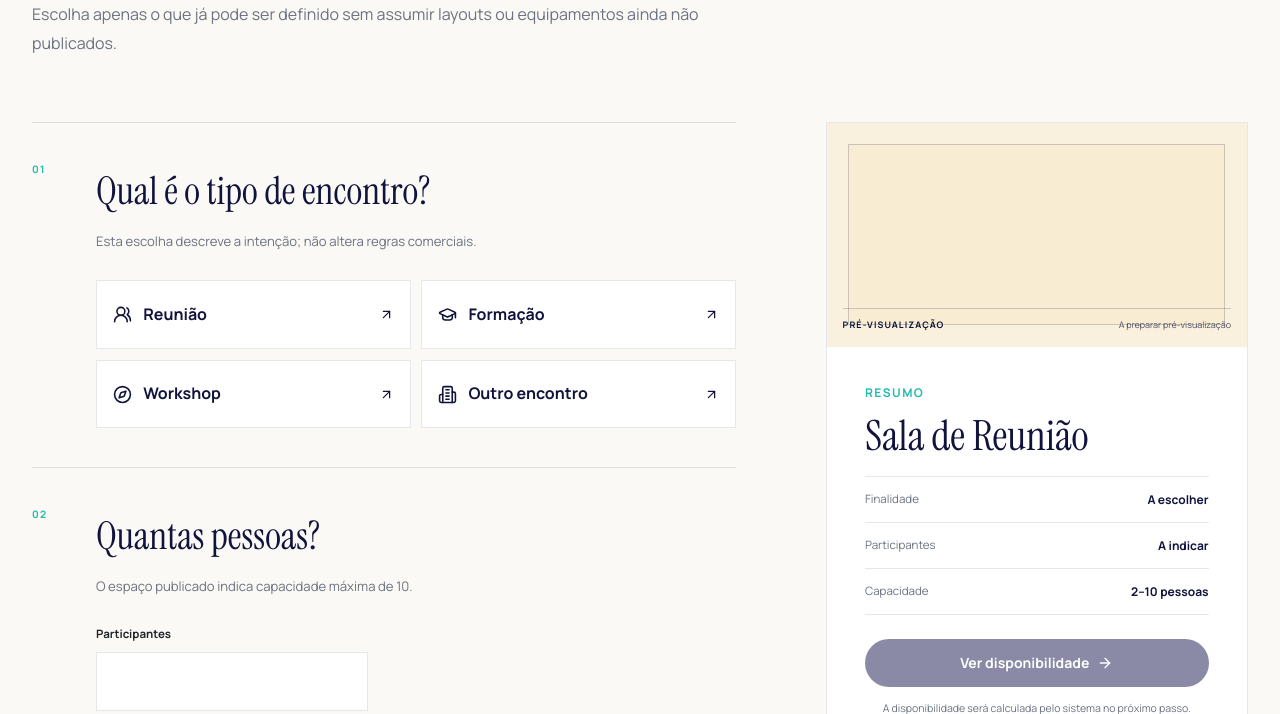
Scenario: public spaces navigation › blocks invalid participant counts before booking
(page scrolled)
Step 1. Click the button "Reunião" → {"x": 175, "y": 314}, box [96,280,411,349]
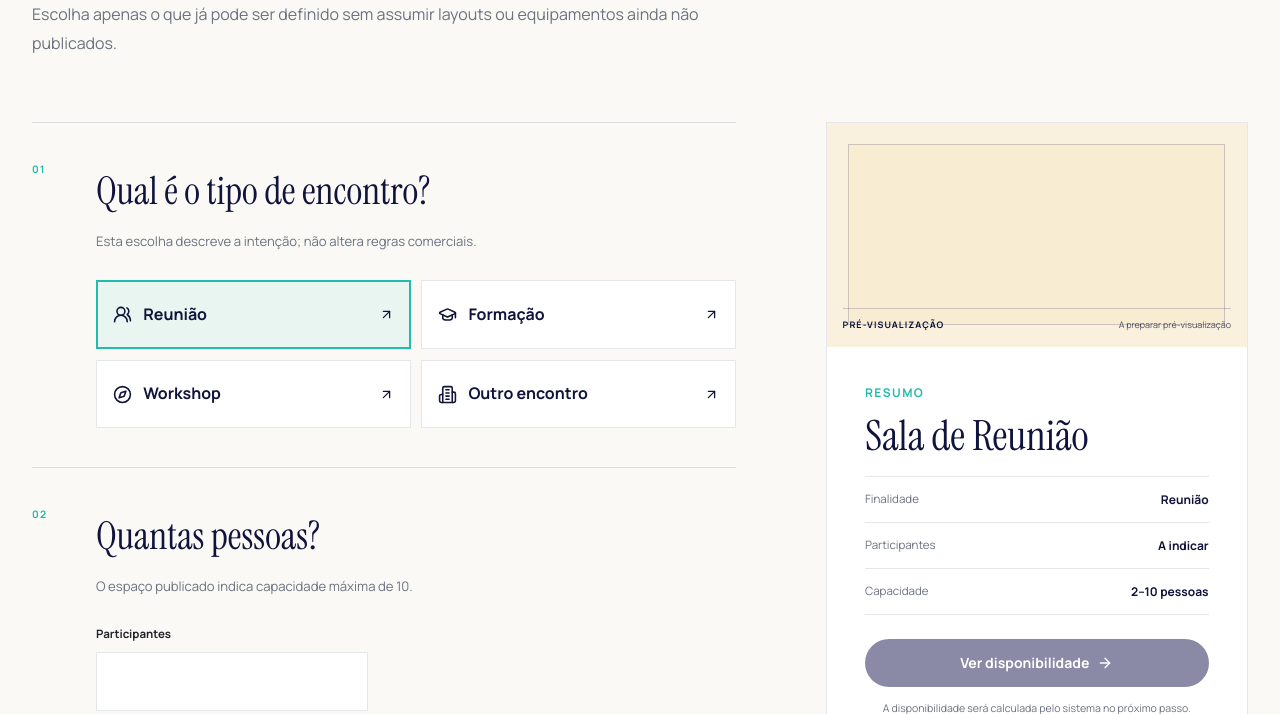
Step 2. Type "0" into the number field labelled "Participantes" → {"x": 232, "y": 682}, box [96,652,368,712]
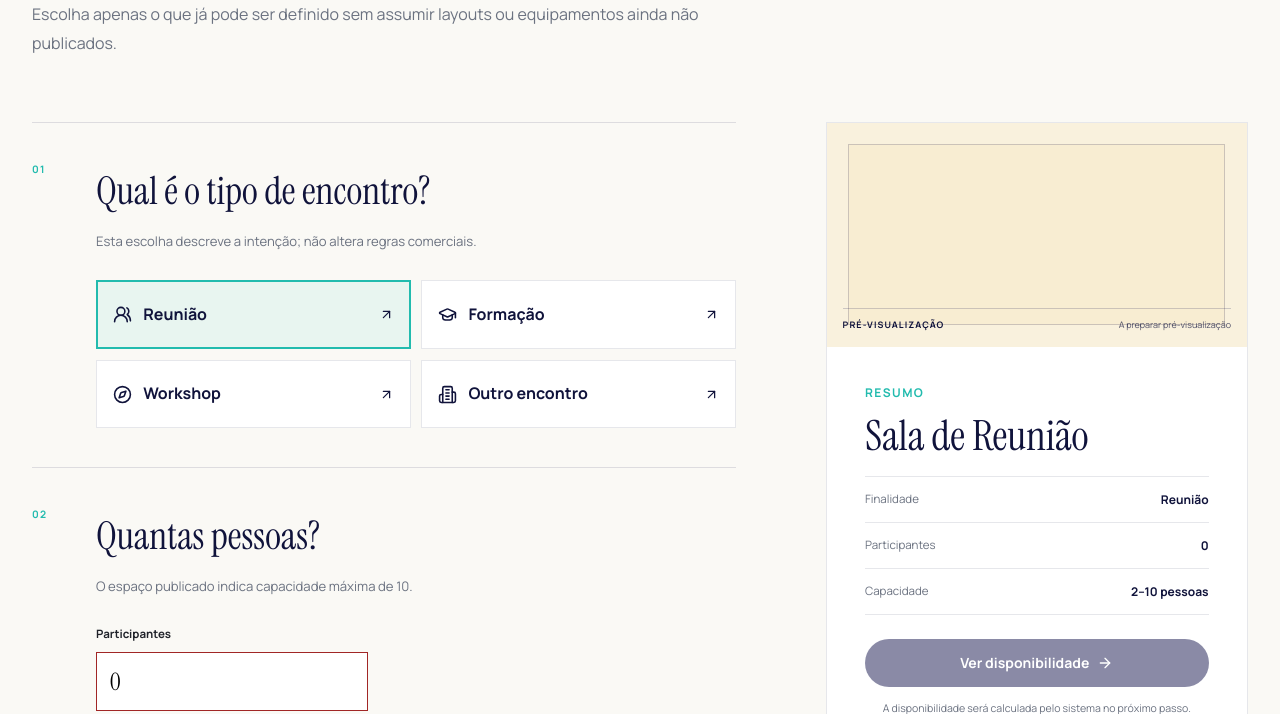
Expected: the button "Ver disponibilidade" is disabled, [865,639,1209,687]
Step 3. Replace the text in the number field labelled "Participantes" with "11" → {"x": 232, "y": 682}, box [96,652,368,712]
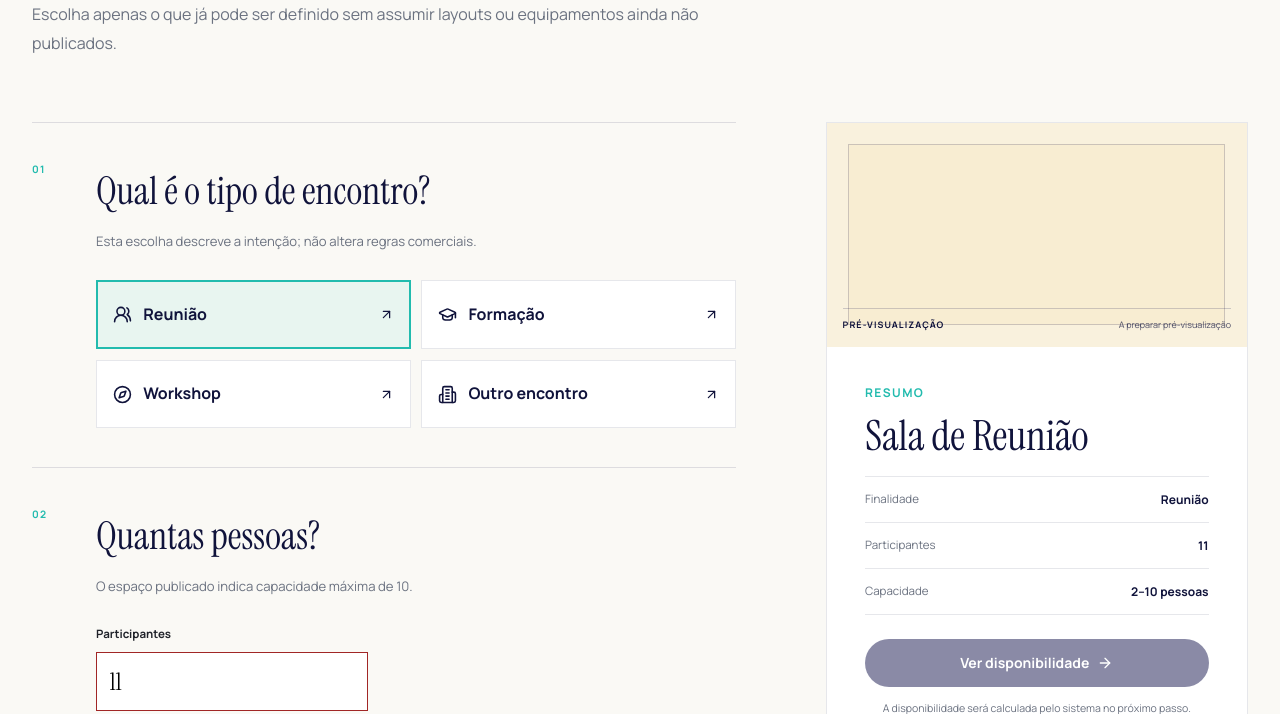
Expected: the button "Ver disponibilidade" is disabled, [865,639,1209,687]
Step 4. Replace the text in the number field labelled "Participantes" with "6" → {"x": 232, "y": 682}, box [96,652,368,712]
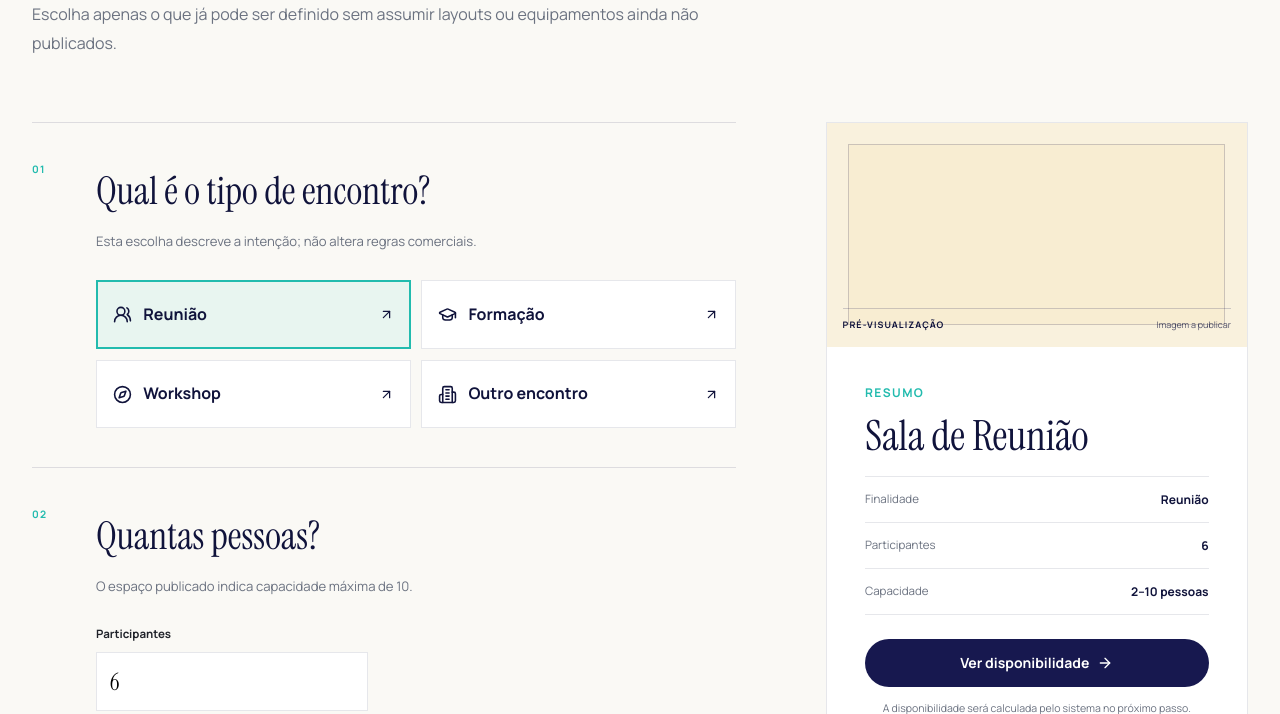
Expected: the button "Ver disponibilidade" is enabled, [865,639,1209,687]
